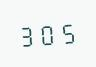five: (57, 19, 75, 45)
three: (18, 22, 36, 47)
zero: (38, 20, 56, 46)
